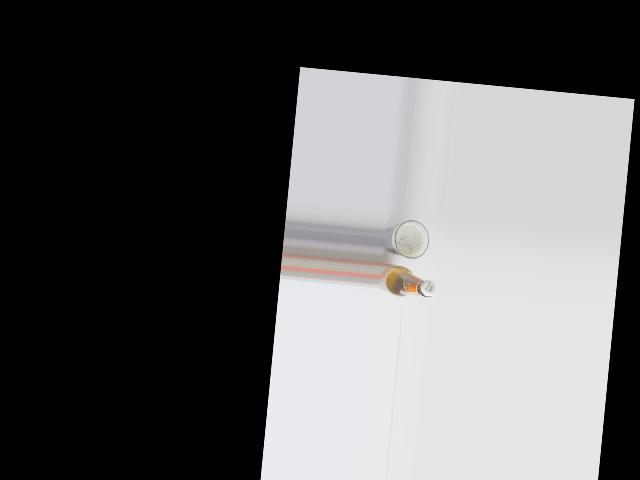beer: (377, 262, 437, 299)
